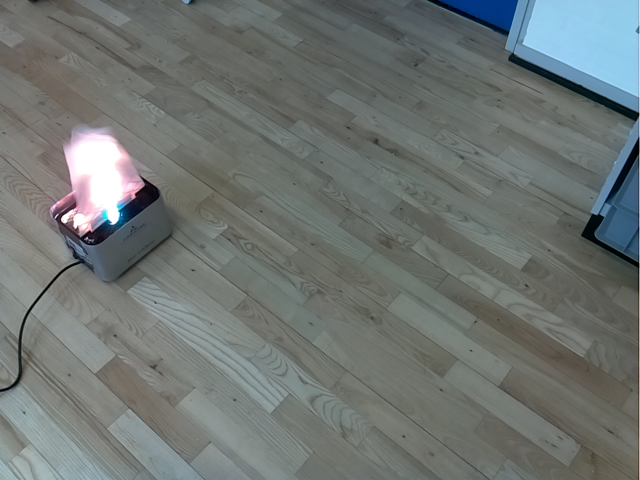fire: (63, 122, 145, 237)
